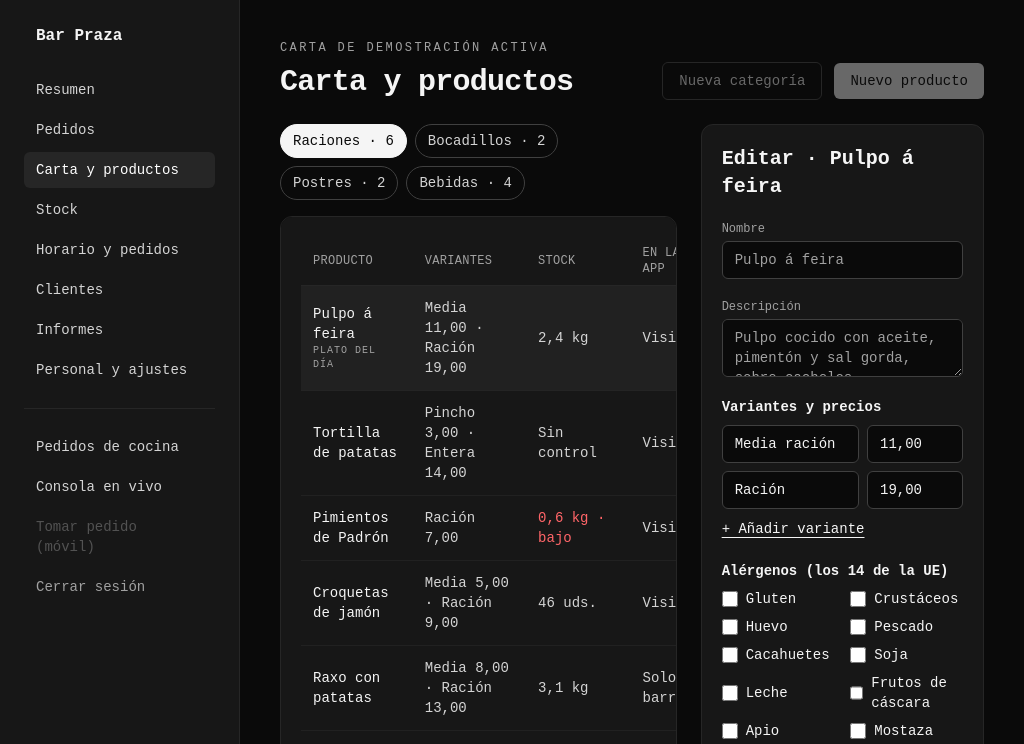
Test: CatalogPage edge cases › keeps the draft of each product separate when switching
The image size is (1024, 744).
Type " (borrador)" into the field labelled "Nombre" at x=842, y=260, box [722,241,963,279]
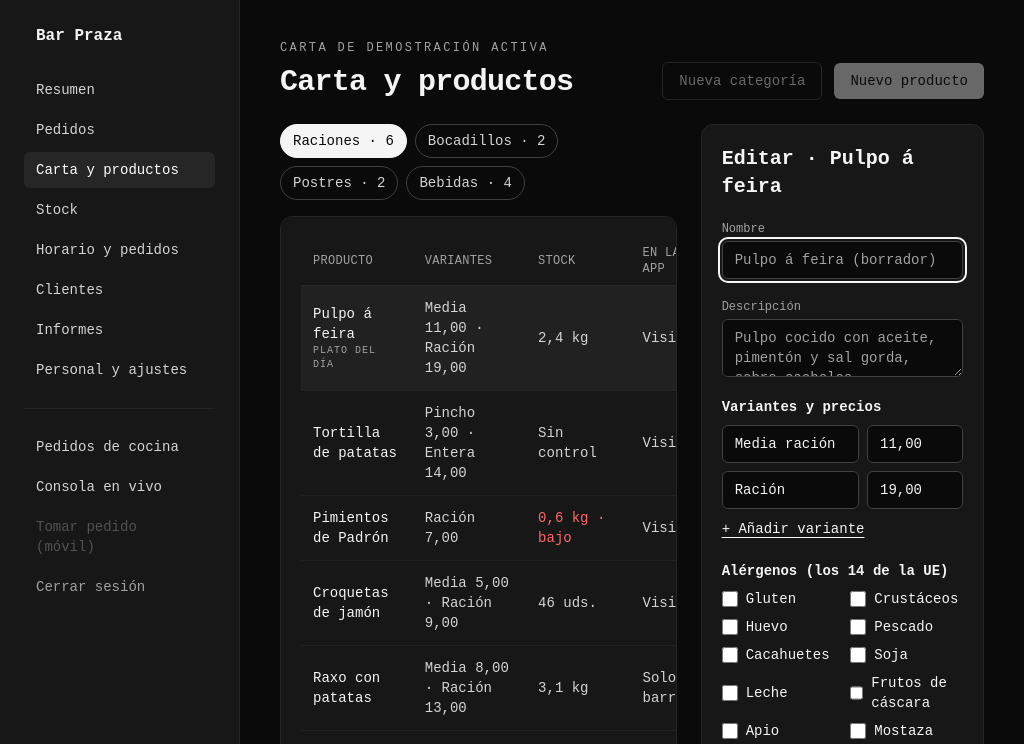
Click the button "Tortilla de patatas" at x=357, y=443, box [313,423,401,463]
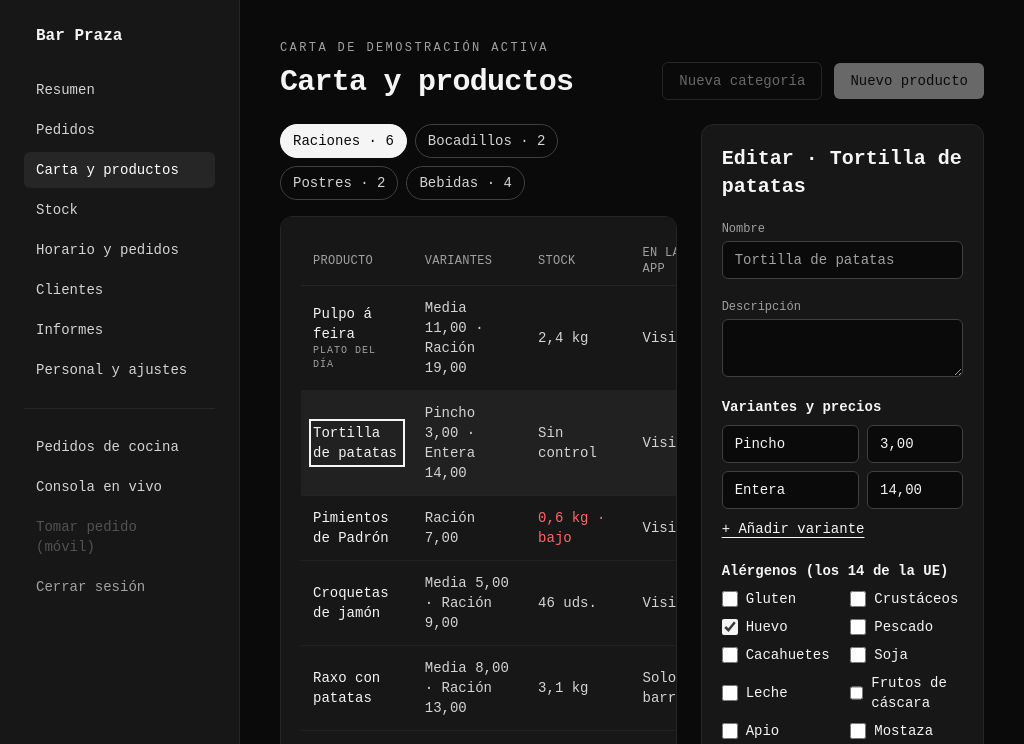
Result: the field labelled "Nombre" holds "Tortilla de patatas" at [722,241,963,279]
